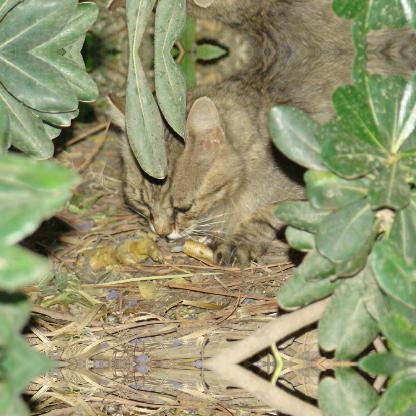Cat: (108, 52, 416, 264), (108, 0, 415, 53)
